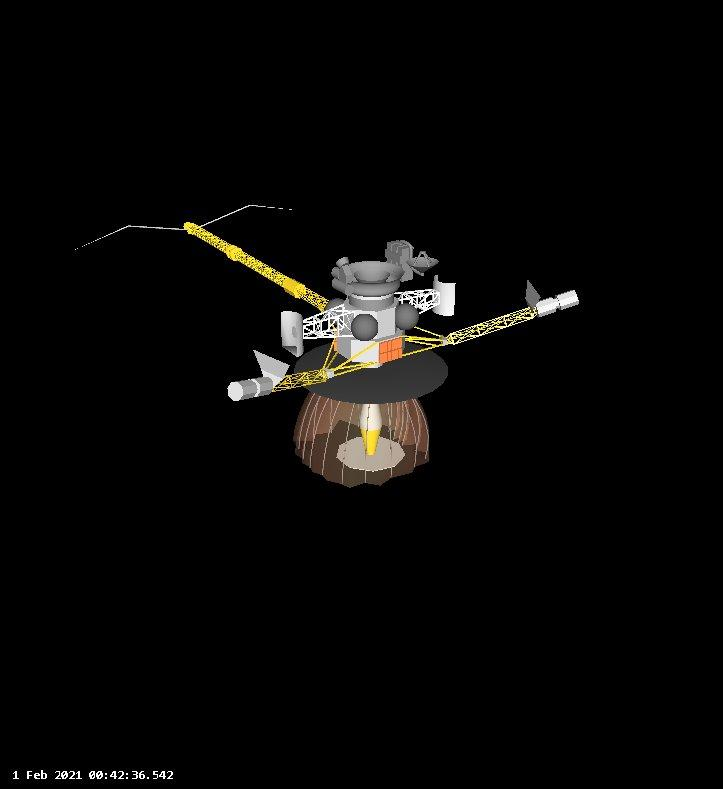antenna: (176, 212, 334, 315), (404, 277, 601, 359), (216, 331, 377, 409), (336, 403, 408, 470), (280, 301, 362, 354), (390, 273, 460, 329), (405, 250, 441, 275)
body: (333, 296, 407, 368)
thruster: (353, 264, 393, 290)
